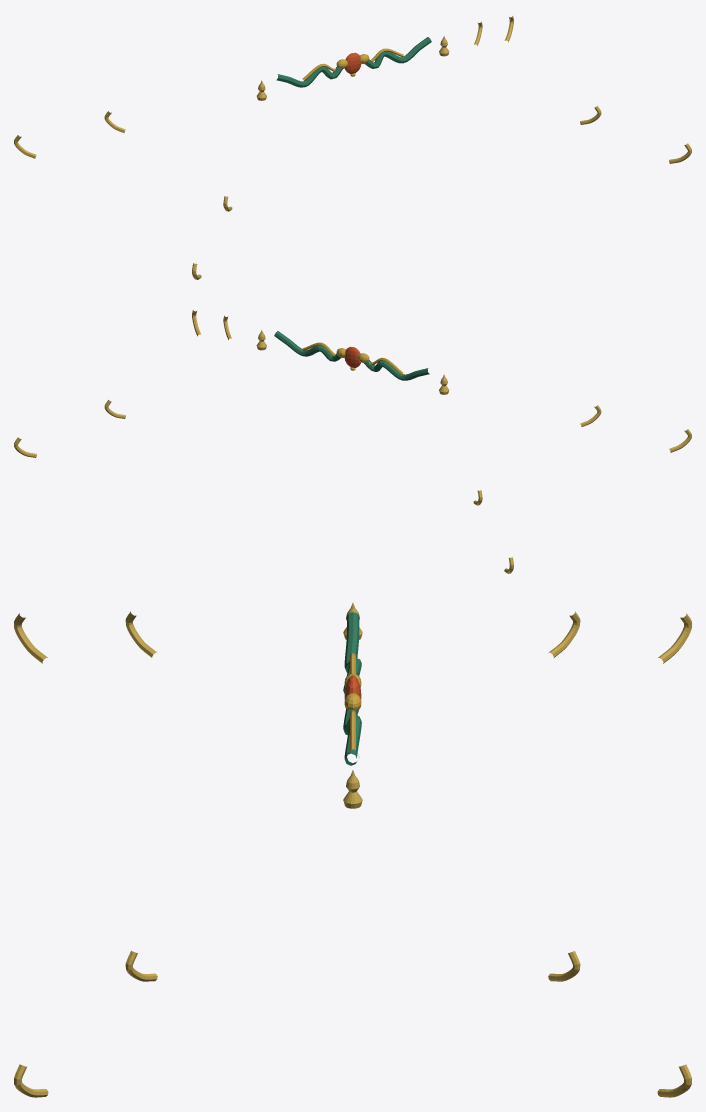
The model's file is hungmieu-hero.glb.
3 views of the same model, one above another, from view 1: azimuth 30°, elevation 25°; view 2: azimuth 150°, elevation 25°; view 3: azimuth 270°, elevation 25° (orthographic). The views are drawn at different scales.
Visible parts, largest first — view 1: hungmieu_hero_ornaments; view 2: hungmieu_hero_ornaments; view 3: hungmieu_hero_ornaments.
Boxes of the visible parts, box(x1,y1,x2,y2) form: hungmieu_hero_ornaments: box(14, 16, 691, 279); hungmieu_hero_ornaments: box(14, 310, 691, 573); hungmieu_hero_ornaments: box(14, 603, 691, 1097).
Bounding box in the file's own units: 20.8 × 4.3 × 13.
